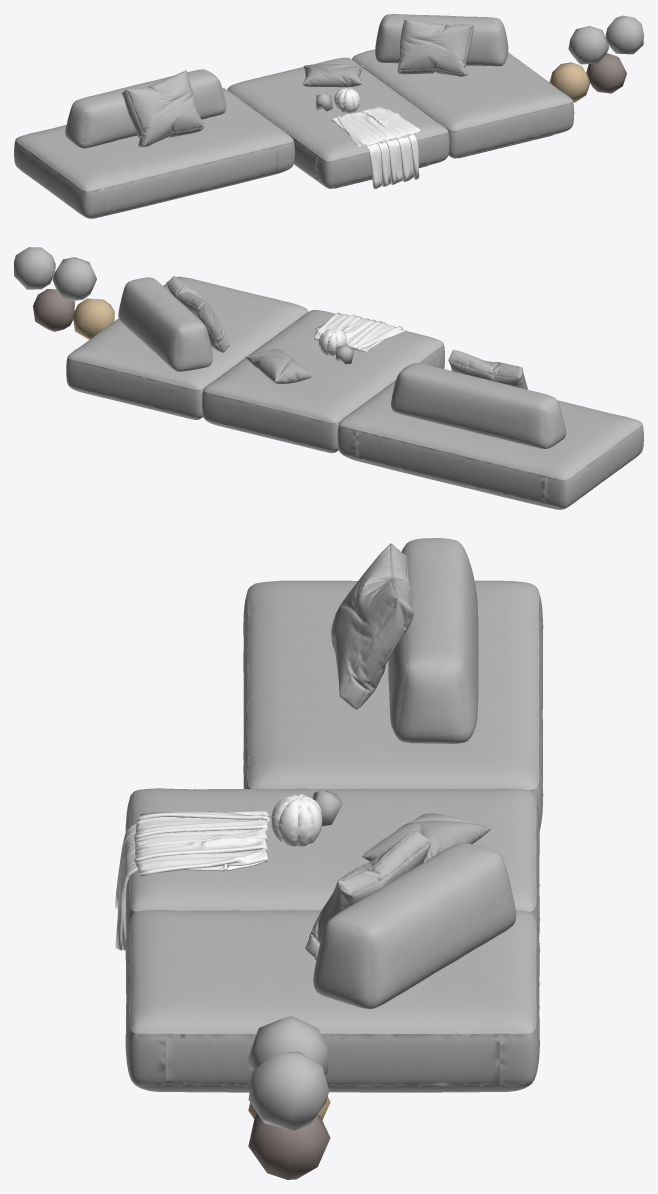
File: boca_tommy.glb
3 views of the same model, one above another, from view 1: azimuth 30°, elevation 25°; view 2: azimuth 150°, elevation 25°; view 3: azimuth 270°, elevation 25° (orthographic). The views are drawn at different scales.
Parts seen in each view (by area): view 1: Boca_Tommy_009, Boca_Tommy_011, Boca_Tommy_010; view 2: Boca_Tommy_009, Boca_Tommy_011, Boca_Tommy_010; view 3: Boca_Tommy_009, Boca_Tommy_011.
Boxes of the visible parts, x1=… form: Boca_Tommy_009: x1=14, y1=14, x2=643, y2=218; Boca_Tommy_011: x1=568, y1=26, x2=609, y2=64; Boca_Tommy_010: x1=549, y1=62, x2=590, y2=102; Boca_Tommy_009: x1=14, y1=247, x2=643, y2=509; Boca_Tommy_011: x1=52, y1=257, x2=96, y2=300; Boca_Tommy_010: x1=72, y1=298, x2=114, y2=339; Boca_Tommy_009: x1=114, y1=538, x2=543, y2=1179; Boca_Tommy_011: x1=246, y1=1015, x2=327, y2=1075.
Size of the model in its own units: 5.45 by 0.8874 by 1.77.
3 materials, 3 textured.
